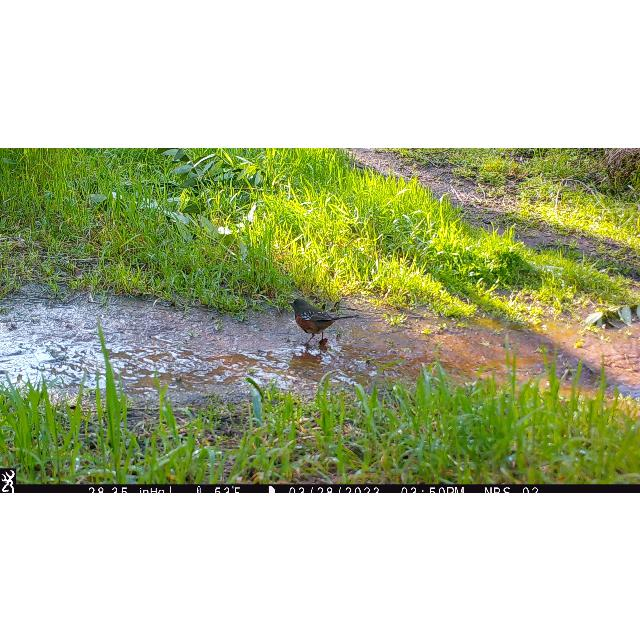animals: (288, 296, 360, 344)
